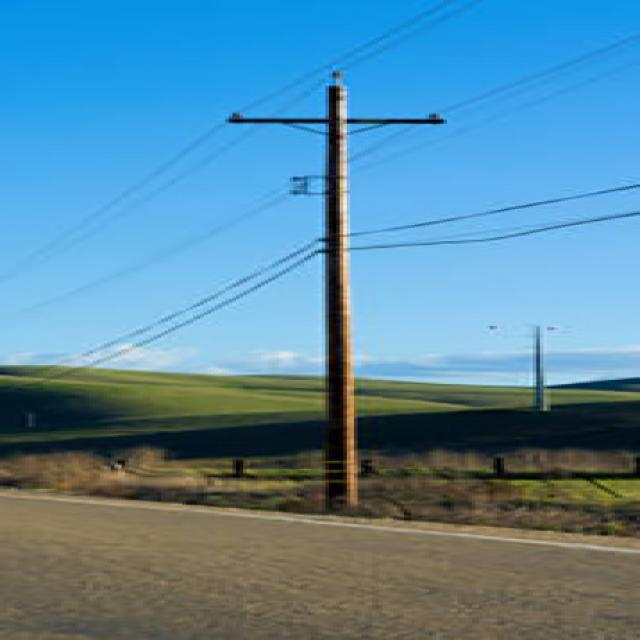pole: (204, 62, 481, 535)
